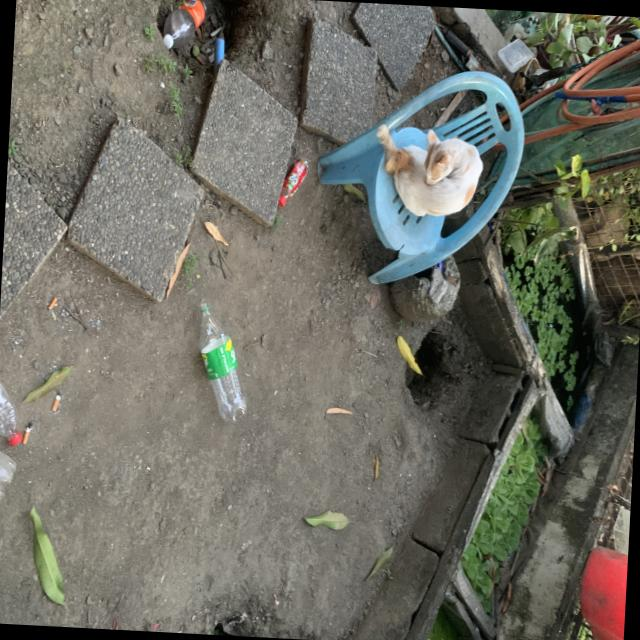Bottle: (200, 302, 247, 420)
